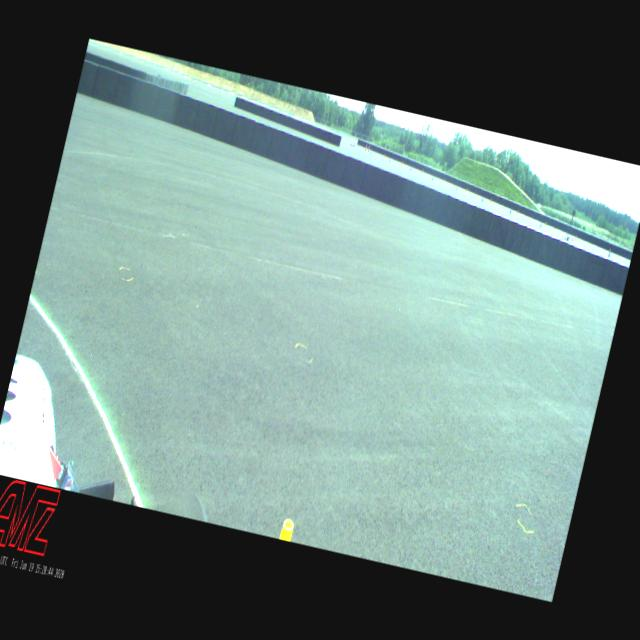yellow_cone: (278, 518, 295, 542)
